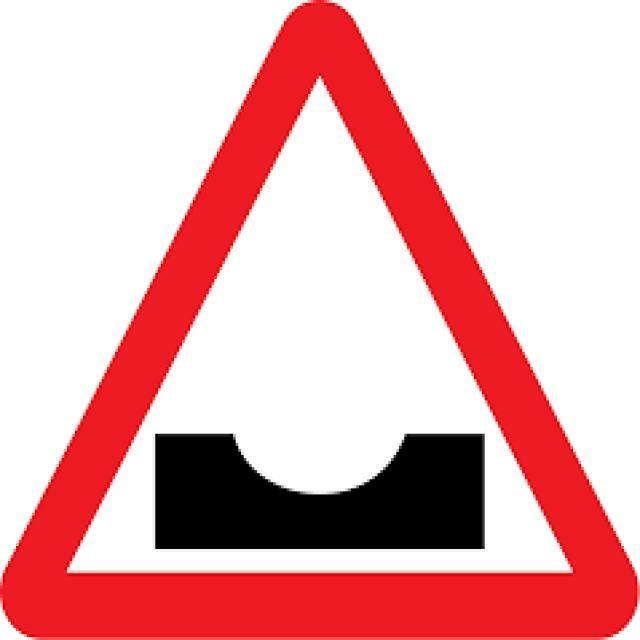dangerous dip: (18, 15, 620, 621)
